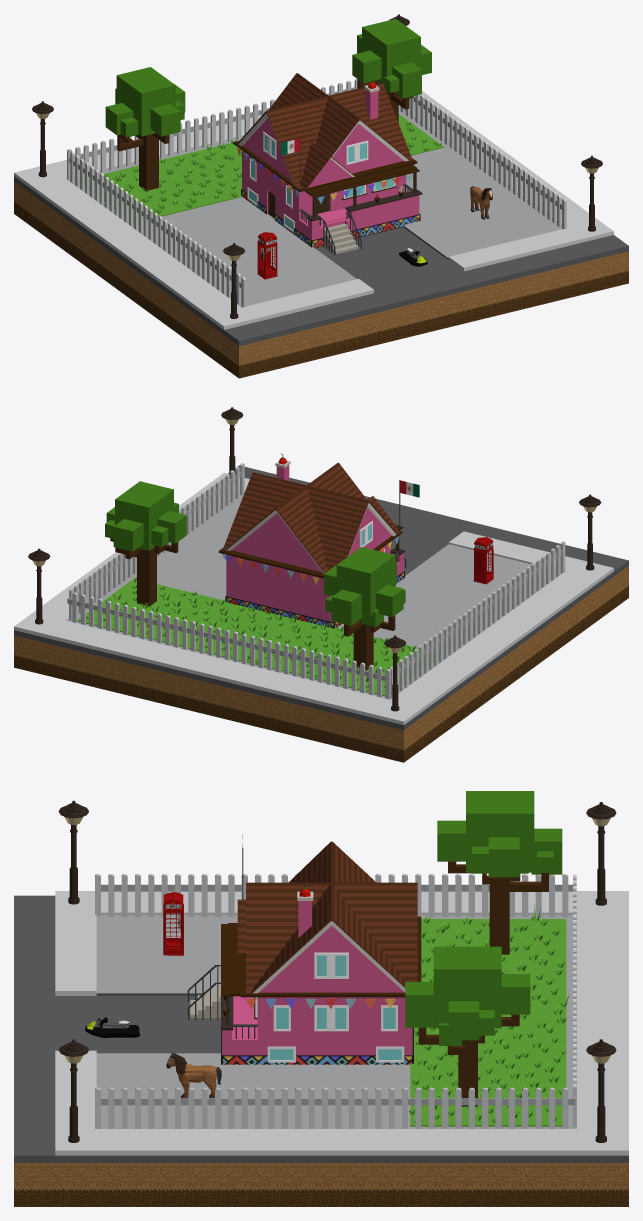
The picture shows the model from 3 angles, top to bottom: view 1: azimuth 30°, elevation 25°; view 2: azimuth 150°, elevation 25°; view 3: azimuth 270°, elevation 25°; orthographic projection. The views are drawn at different scales.
Visible parts, largest first — view 1: Cube.004, Cube.1005, OBJRANDOM_PHONEBOOTH, ANIMAL_CABALLO; view 2: Cube.004, Cube.1005, OBJRANDOM_PHONEBOOTH; view 3: Cube.004, Cube.1005, ANIMAL_CABALLO, OBJRANDOM_PHONEBOOTH, VEHICLES_WATERBIKE.
Boxes of the visible parts, box(x1,y1,x2,y2) form: Cube.004: box(14, 14, 628, 378); Cube.1005: box(233, 73, 422, 255); OBJRANDOM_PHONEBOOTH: box(257, 232, 277, 279); ANIMAL_CABALLO: box(470, 186, 492, 219); Cube.004: box(14, 407, 628, 762); Cube.1005: box(218, 453, 419, 628); OBJRANDOM_PHONEBOOTH: box(473, 537, 493, 584); Cube.004: box(14, 791, 628, 1206); Cube.1005: box(187, 835, 421, 1064); ANIMAL_CABALLO: box(166, 1053, 221, 1098); OBJRANDOM_PHONEBOOTH: box(163, 892, 183, 955); VEHICLES_WATERBIKE: box(85, 1017, 139, 1037).
Bounding box in the file's own units: 4000 × 1687 × 4000.
77 materials, 5 textured.
